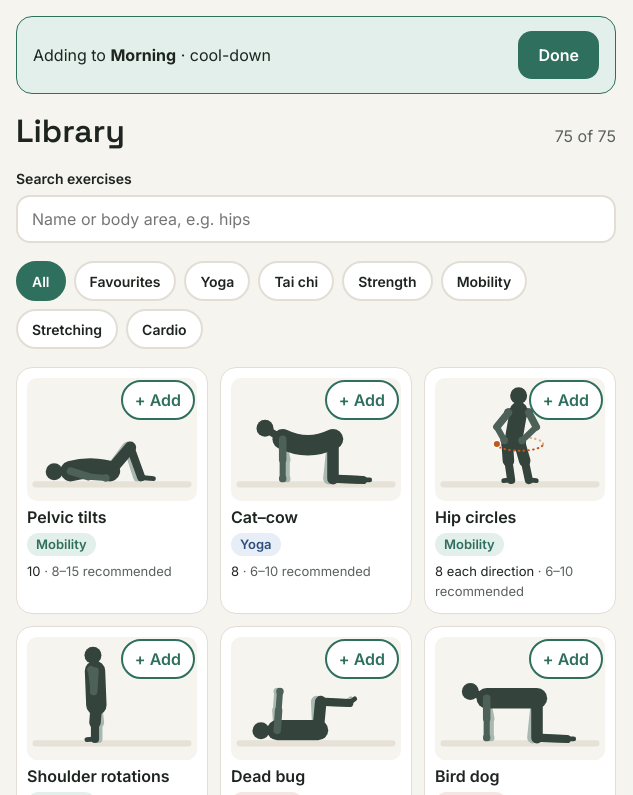
Test case: Library add mode › adds exercises to the set, duplicates allowed
The image size is (633, 795).
Check: the text "Adding to Morning · cool-down" is shown, box [33, 43, 271, 67]
Click the button with aria-label "Add Cat–cow to Morning" at (362, 400), box [325, 380, 399, 420]
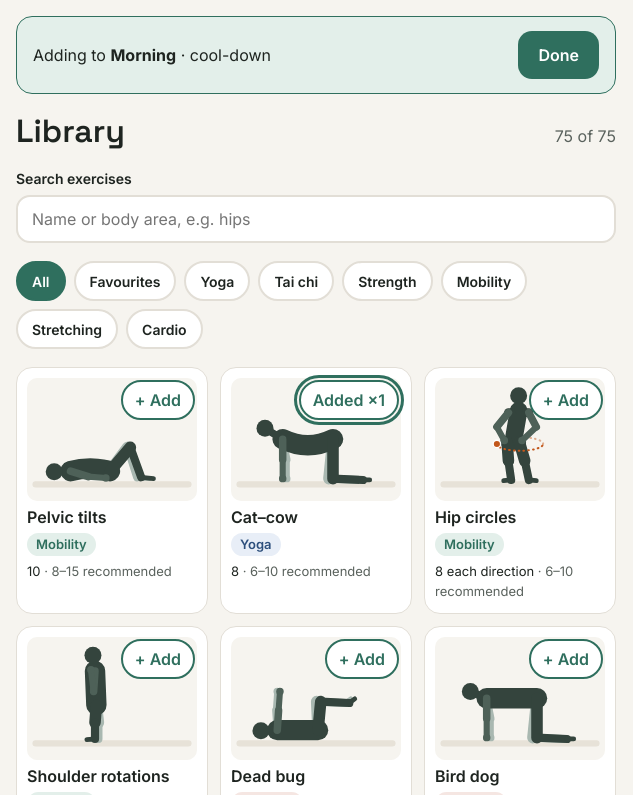
Check: the button with aria-label "Add Cat–cow to Morning" reads "Added ×1", box [299, 380, 399, 420]
